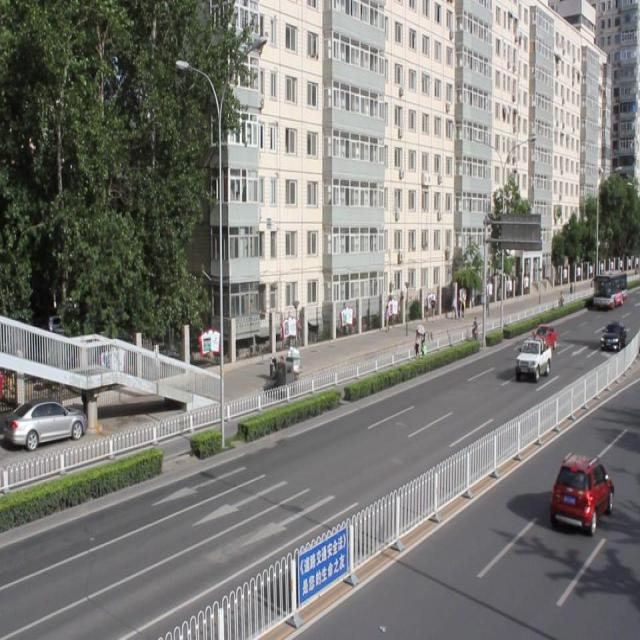car: (548, 452, 613, 531), (513, 338, 549, 379)
